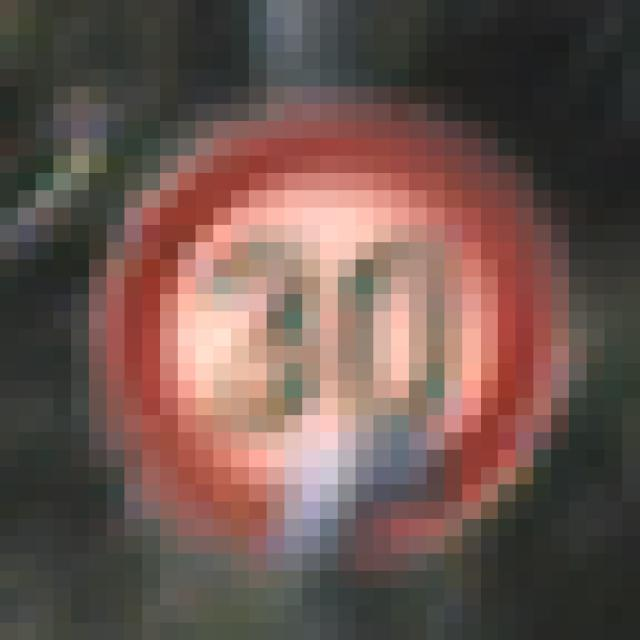Speed Limit -30-: (80, 78, 542, 545)
